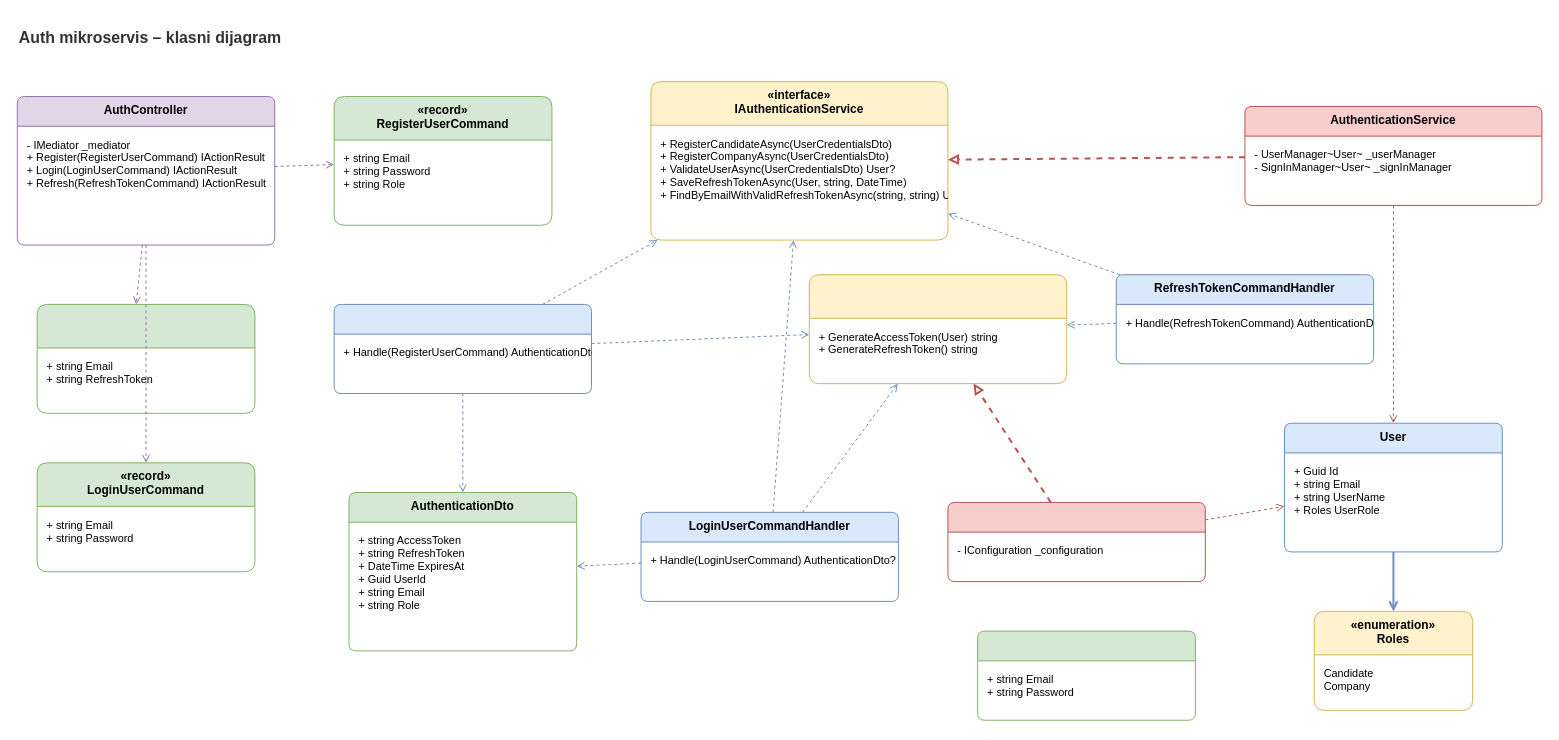
This 1559x740 diagram has some shape labels left out. Each missing label, with the box of its shape:
JwtTokenService: (947, 501, 1205, 582)
RegisterUserCommandHandler: (333, 303, 592, 394)
UserCredentialsDto: (977, 630, 1195, 720)
«interface» IJwtTokenService: (808, 274, 1067, 384)
«record» RefreshTokenCommand: (36, 303, 255, 413)
